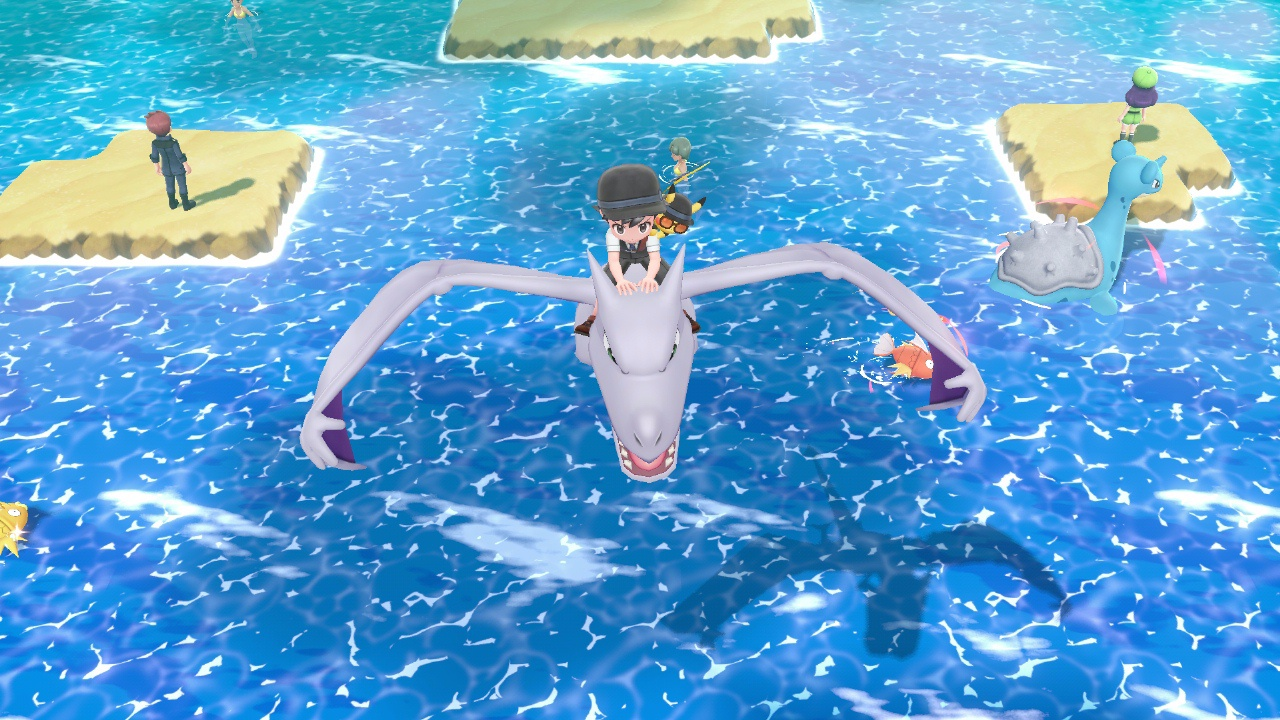Golden: (1, 499, 31, 556)
